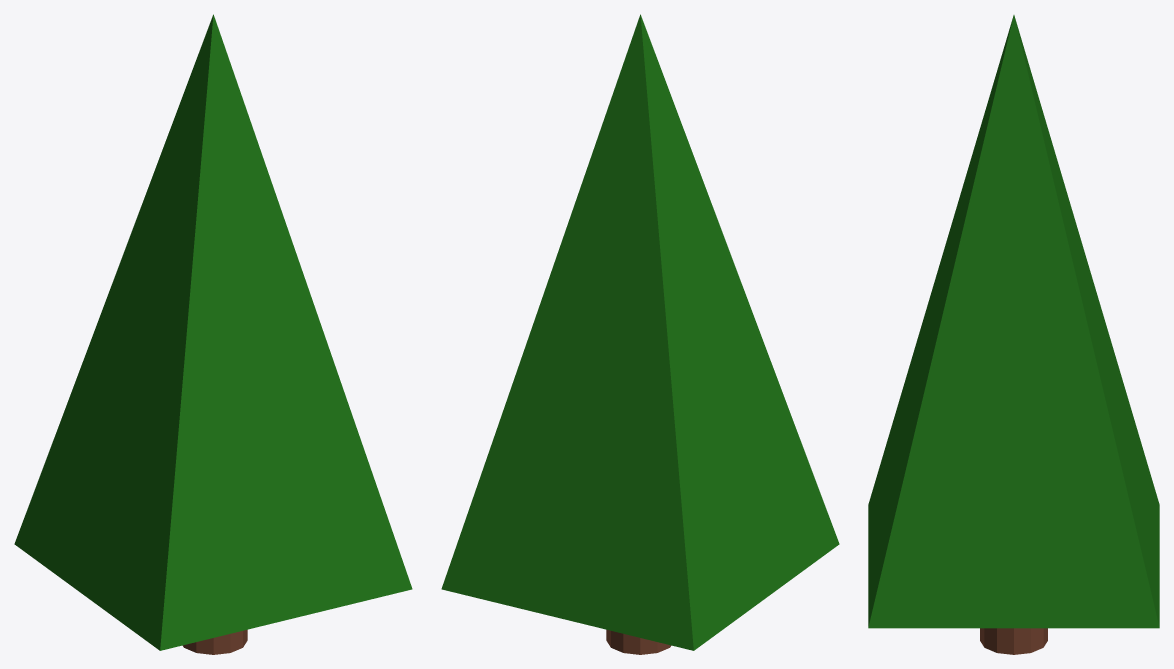
File: Tree_36_summer_vc.fbx
The picture shows the model from 3 angles, left to right: view 1: azimuth 30°, elevation 25°; view 2: azimuth 150°, elevation 25°; view 3: azimuth 270°, elevation 25°; orthographic projection.
Visible parts, largest first — view 1: Tree_36_summer_vc; view 2: Tree_36_summer_vc; view 3: Tree_36_summer_vc.
Part boxes in pixels (x1,y1,x2,y2): Tree_36_summer_vc: (14,14,412,654); Tree_36_summer_vc: (441,14,839,654); Tree_36_summer_vc: (868,15,1159,654).
Bounding box in the file's own units: 1.8 × 4.26 × 1.8.
